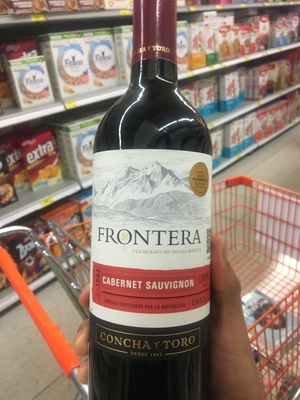frontera cabernet sauvignon: (90, 4, 213, 391)
